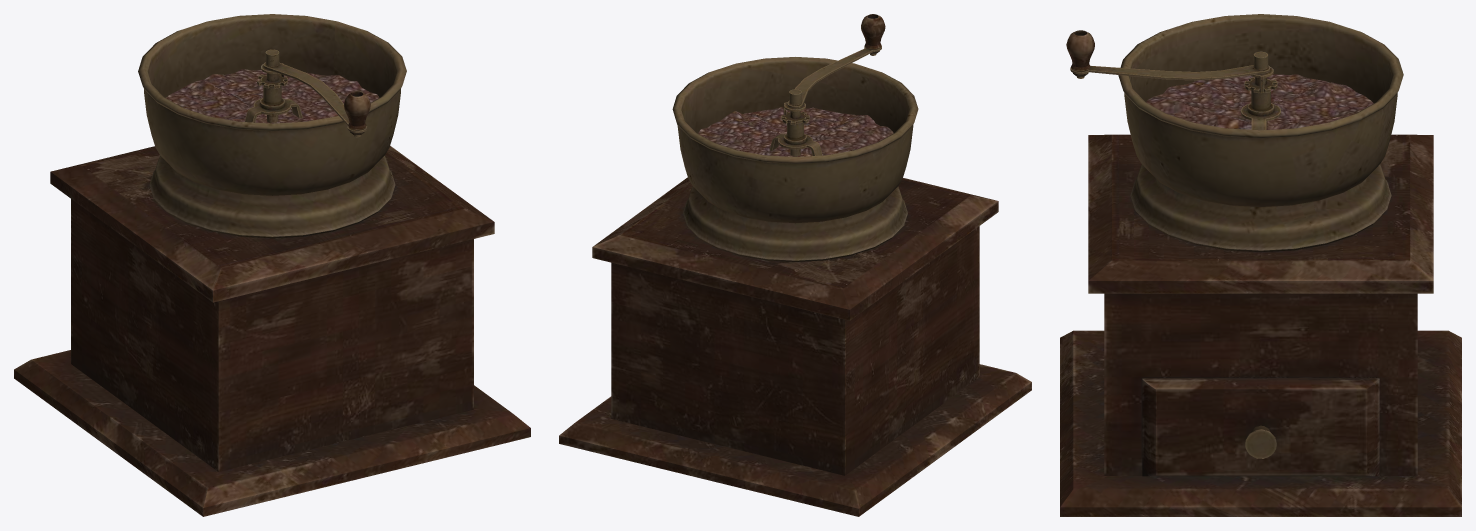
File: coffee_grinder.glb
The picture shows the model from 3 angles, left to right: view 1: azimuth 30°, elevation 25°; view 2: azimuth 150°, elevation 25°; view 3: azimuth 270°, elevation 25°; orthographic projection. The views are drawn at different scales.
Parts seen in each view (by area): view 1: base_Coffee Grinder_0, handle_Coffee Grinder_0; view 2: base_Coffee Grinder_0, handle_Coffee Grinder_0; view 3: base_Coffee Grinder_0, handle_Coffee Grinder_0.
Part boxes in pixels (x1,y1,x2,y2): base_Coffee Grinder_0: [14, 14, 530, 516]; handle_Coffee Grinder_0: [244, 49, 370, 137]; base_Coffee Grinder_0: [559, 57, 1031, 516]; handle_Coffee Grinder_0: [769, 14, 885, 156]; base_Coffee Grinder_0: [1060, 14, 1461, 516]; handle_Coffee Grinder_0: [1066, 30, 1280, 130].
Size of the model in its own units: 15.11 by 16.56 by 15.11.
1 material, 1 textured.
